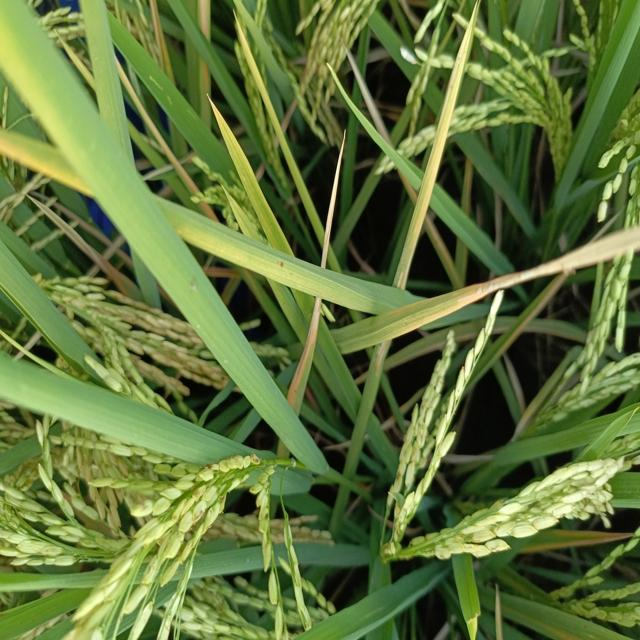insects: (277, 258, 288, 270)
